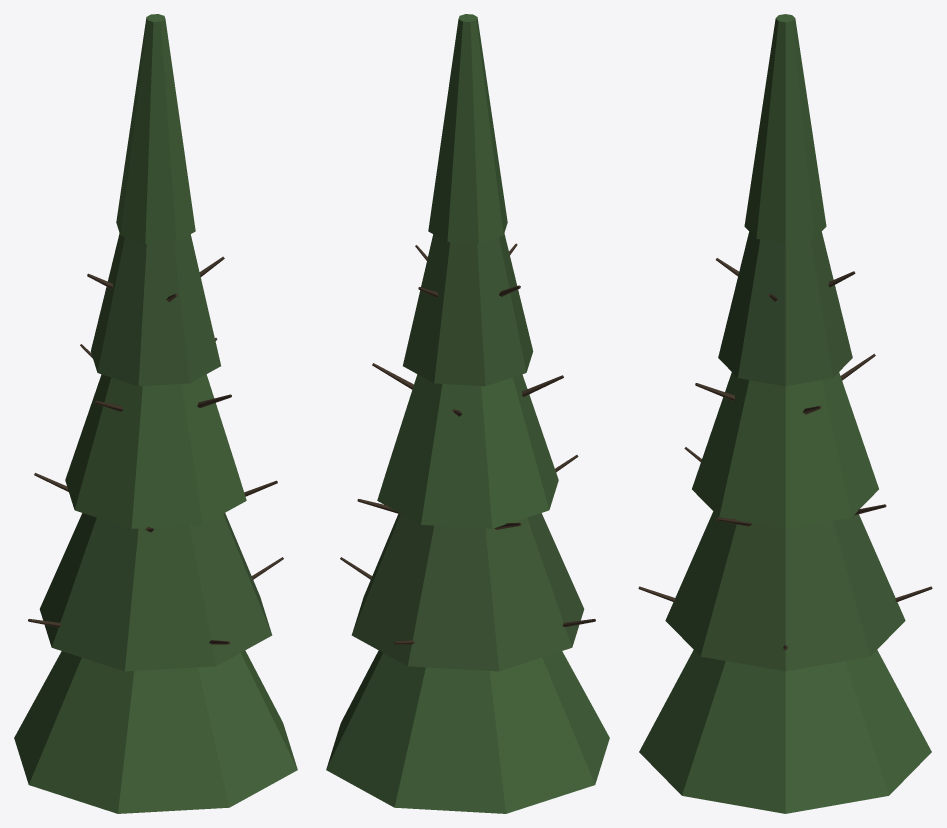
Rendered from land-forest-02.glb.
3 renders of one model, left to right at view 1: azimuth 30°, elevation 25°; view 2: azimuth 150°, elevation 25°; view 3: azimuth 270°, elevation 25°, orthographic.
Parts seen in each view (by area): view 1: land.forest.02; view 2: land.forest.02; view 3: land.forest.02.
Boxes of the visible parts, left/top/right/bottom form: land.forest.02: left=14, top=14, right=297, bottom=813; land.forest.02: left=326, top=14, right=609, bottom=813; land.forest.02: left=638, top=14, right=932, bottom=813.
Size of the model in its own units: 2.33 by 6.43 by 2.33.
